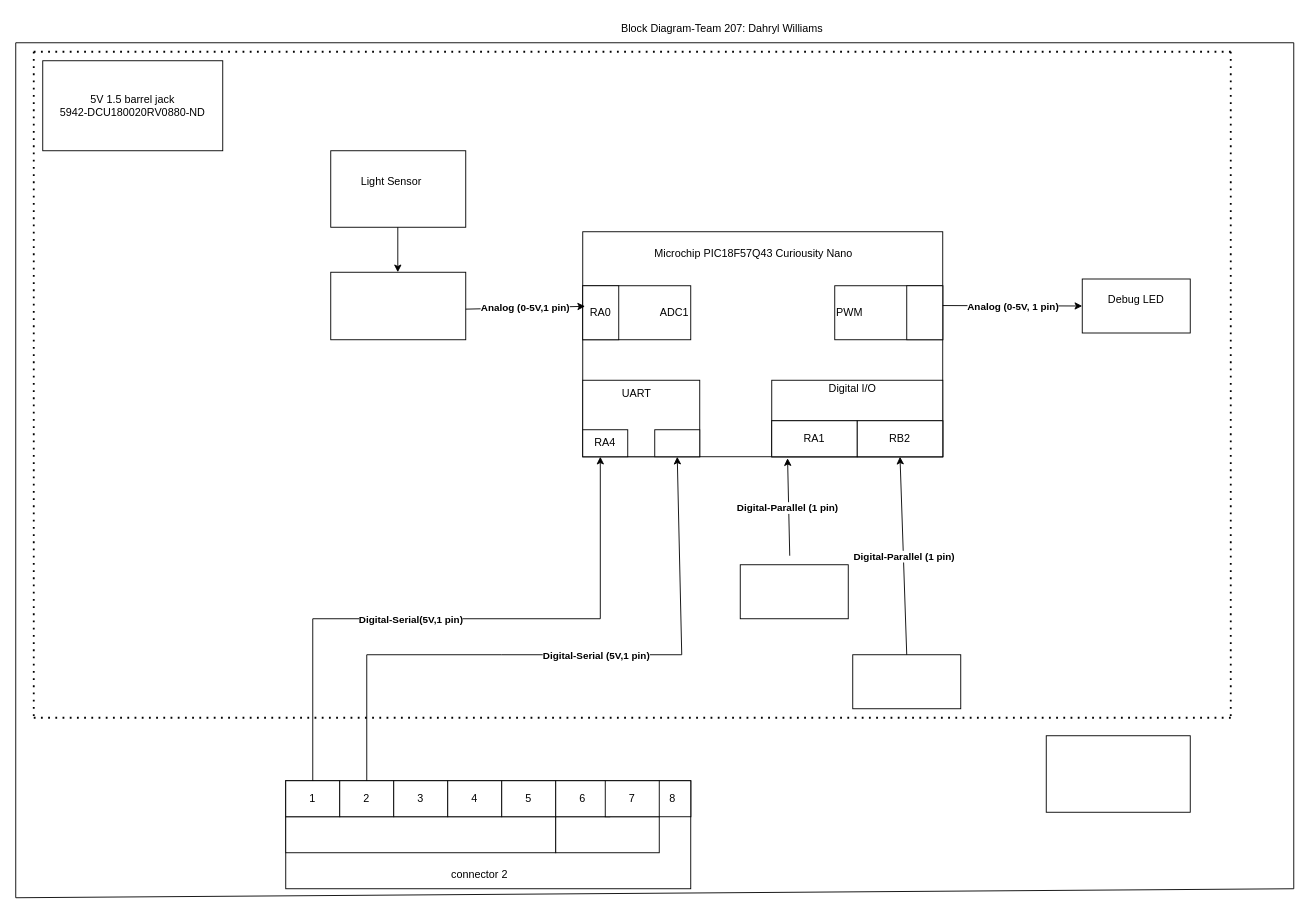
This 1310x914 diagram has some shape labels left out. The shapes that lost their labels are listed below. From the top down, each one's centre as x and y in pixels, then its label:
At [398,305]: "Op-Amp Microchip MCP6001 Low-Power".
At [924,312]: "RA2".
At [677,443]: "RC3".
At [793,591]: "button 1".
At [906,681]: "button 2".
At [1117,773]: "9V regulator 296-47192-ND".
At [420,834]: "digital".
At [607,834]: "analog".
